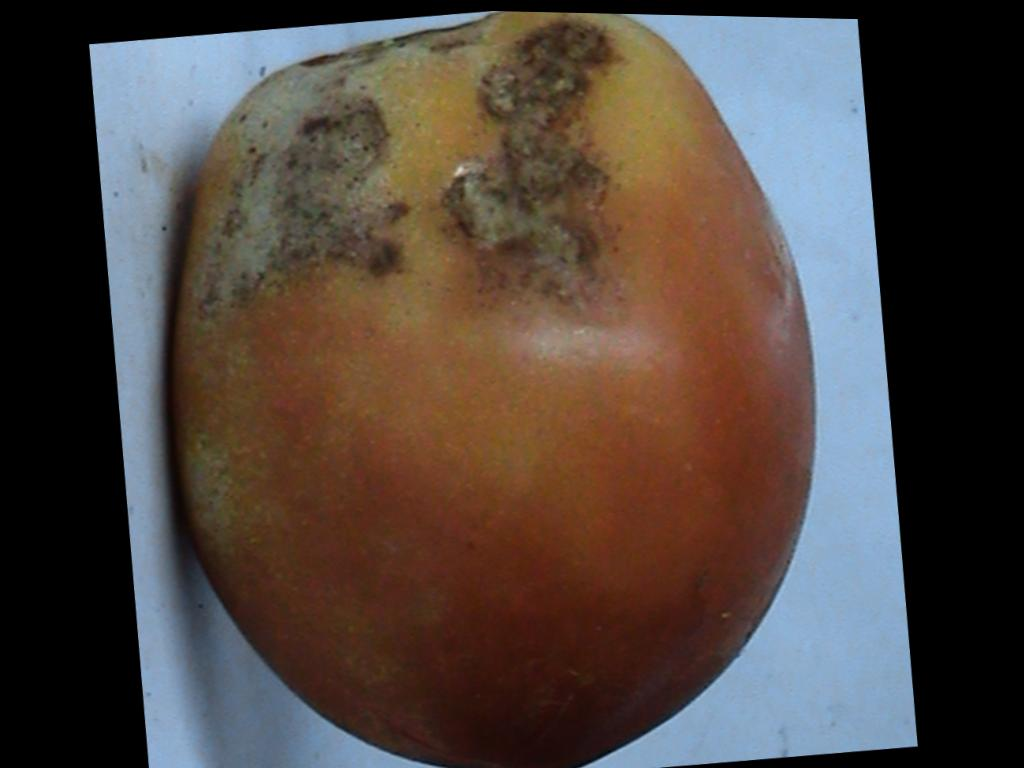bruise_discoloration: (173, 12, 699, 570)
rot_mold_decay: (205, 21, 482, 304), (434, 22, 617, 300)
tomato: (174, 11, 814, 768)
